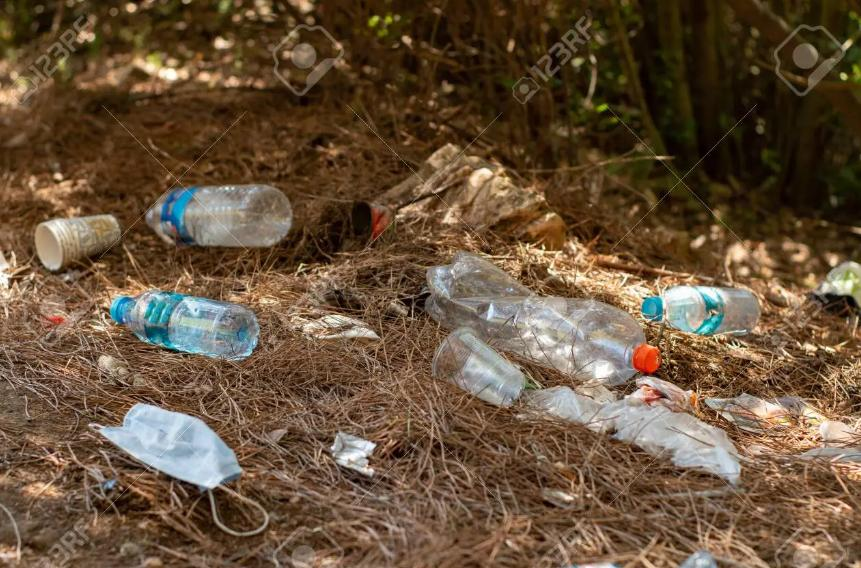bottle: (419, 239, 663, 403), (92, 279, 259, 374), (139, 177, 306, 260), (631, 280, 780, 343)
